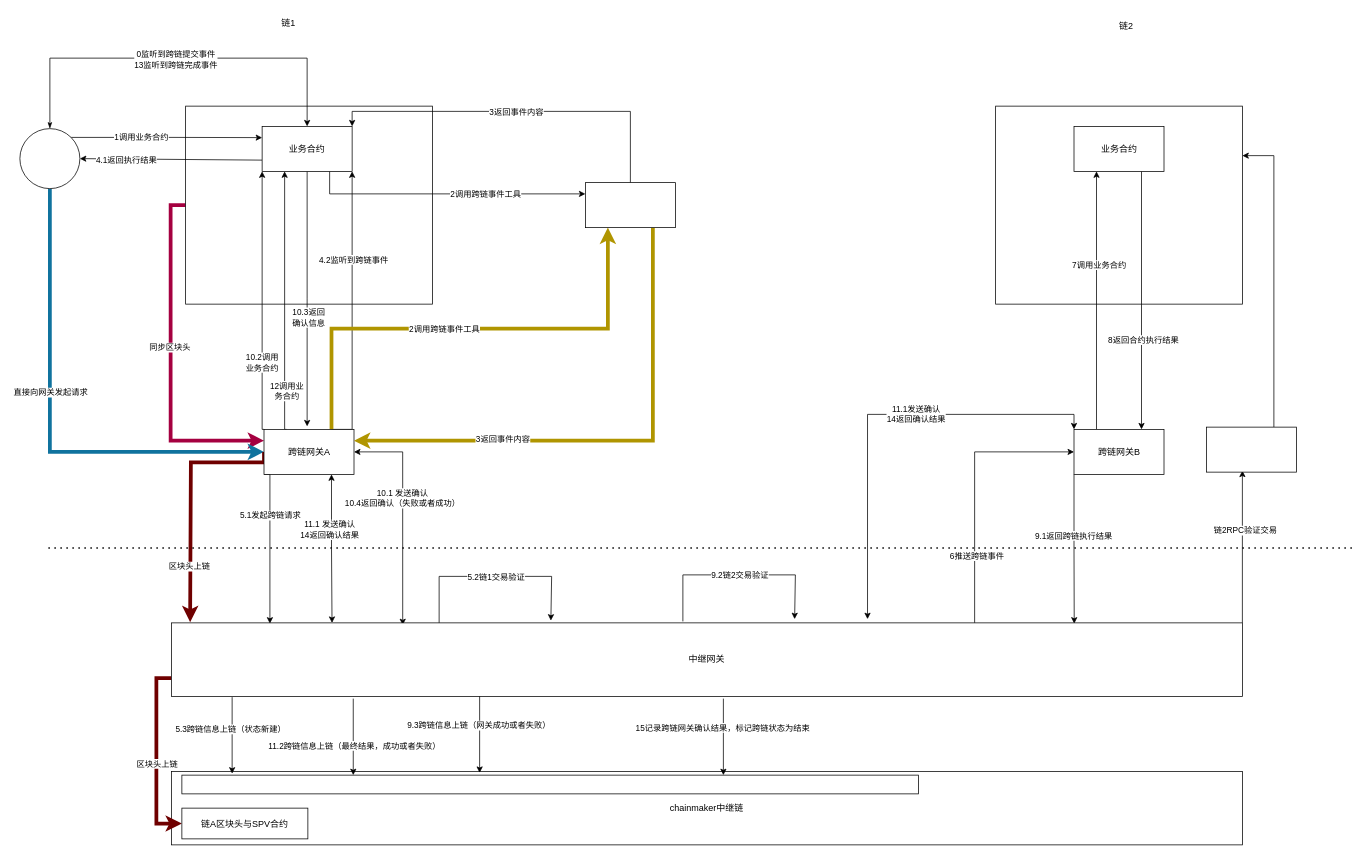
Some shapes in this 1366 by 858 pixel diagram are drawn without their labels. The centre of each missing label's shape, as x and y in pixels:
"APP" belongs at point (49, 158).
"交易验证API" belongs at point (1251, 449).
"跨链事件工具" belongs at point (630, 205).
"跨链管理合约" belongs at point (549, 784).
